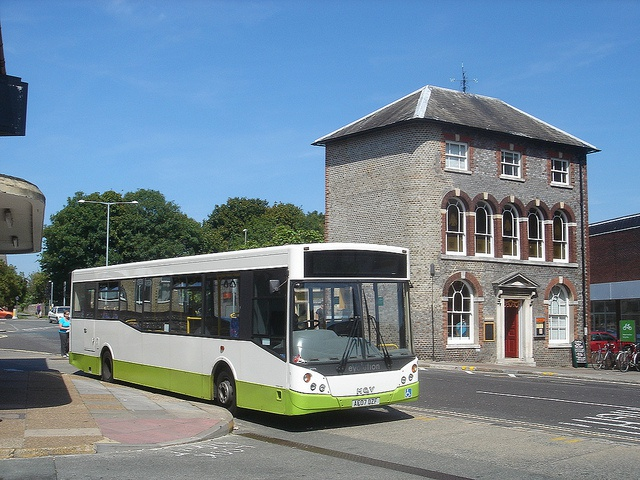non-vehicle: (616, 342, 639, 372), (591, 343, 615, 369)
